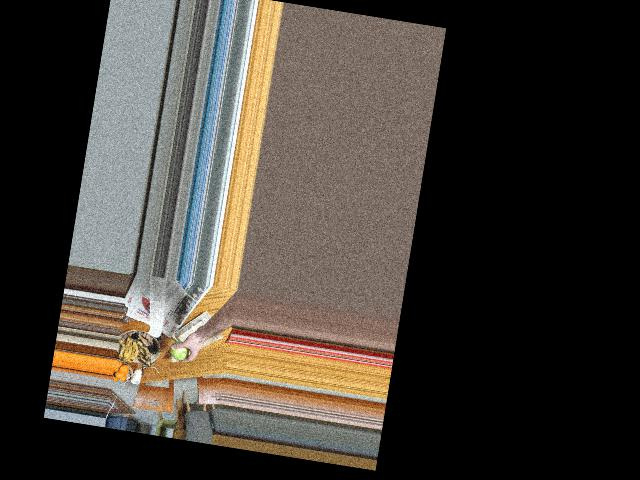apple: (168, 332, 195, 362)
